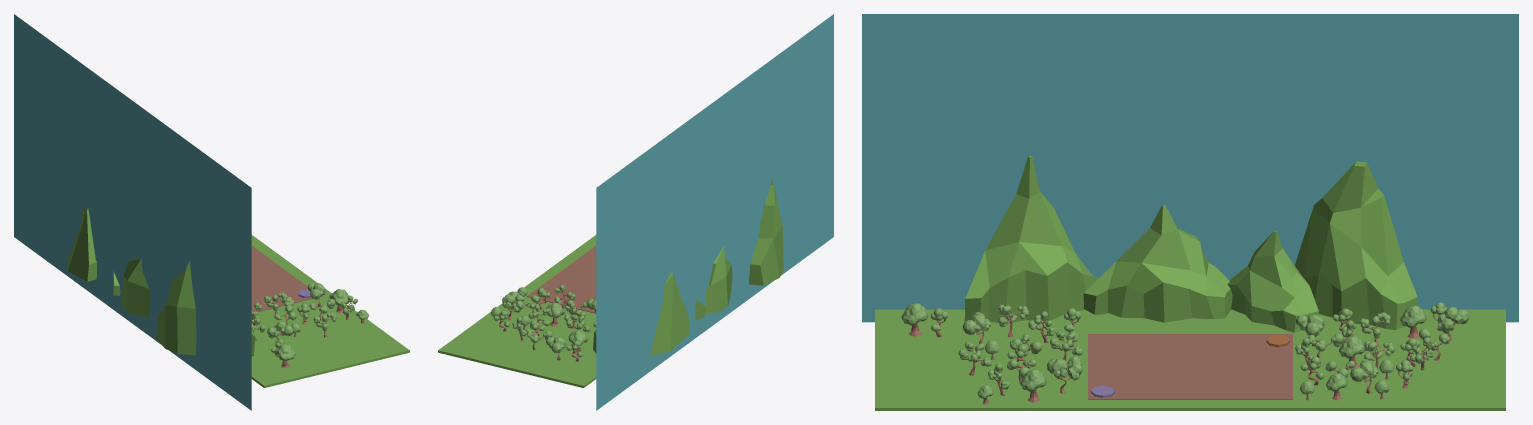
File: Escenario.fbx
3 renders of one model, left to right at view 1: azimuth 30°, elevation 25°; view 2: azimuth 150°, elevation 25°; view 3: azimuth 270°, elevation 25°, orthographic. The views are drawn at different scales.
Parts seen in each view (by area): view 1: pCube9, pCube1, pCube5, pCube8, pCube4, pCube2; view 2: pCube9, pCube1, pCube5, pCube8, pCube4, pCube2; view 3: pCube9, pCube1, pCube8, pCube4, pCube5, pCube2, pCube3, polySurface14.
Boxes of the visible parts, x1,y1,x2,y2 form: pCube9: (14,14,251,410); pCube1: (251,235,409,387); pCube5: (156,261,255,356); pCube8: (251,246,320,311); pCube4: (67,207,96,281); pCube2: (121,258,150,318); pCube9: (596,14,833,410); pCube1: (438,235,596,387); pCube5: (749,177,783,285); pCube8: (527,246,596,313); pCube4: (593,272,689,356); pCube2: (705,245,732,314); pCube9: (862,14,1518,322); pCube1: (875,309,1505,410); pCube8: (1088,334,1292,399); pCube4: (1295,161,1417,329); pCube5: (964,155,1098,323); pCube2: (1083,205,1232,322); pCube3: (1227,230,1319,332); polySurface14: (1047,358,1082,393).
Bounding box in the file's own units: 65.32 × 77.82 × 150.
